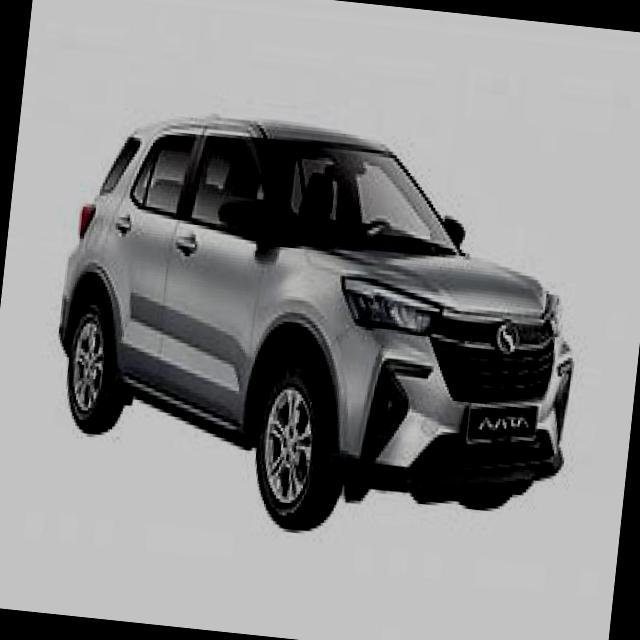PeroduaAtiva: (38, 93, 599, 557)
